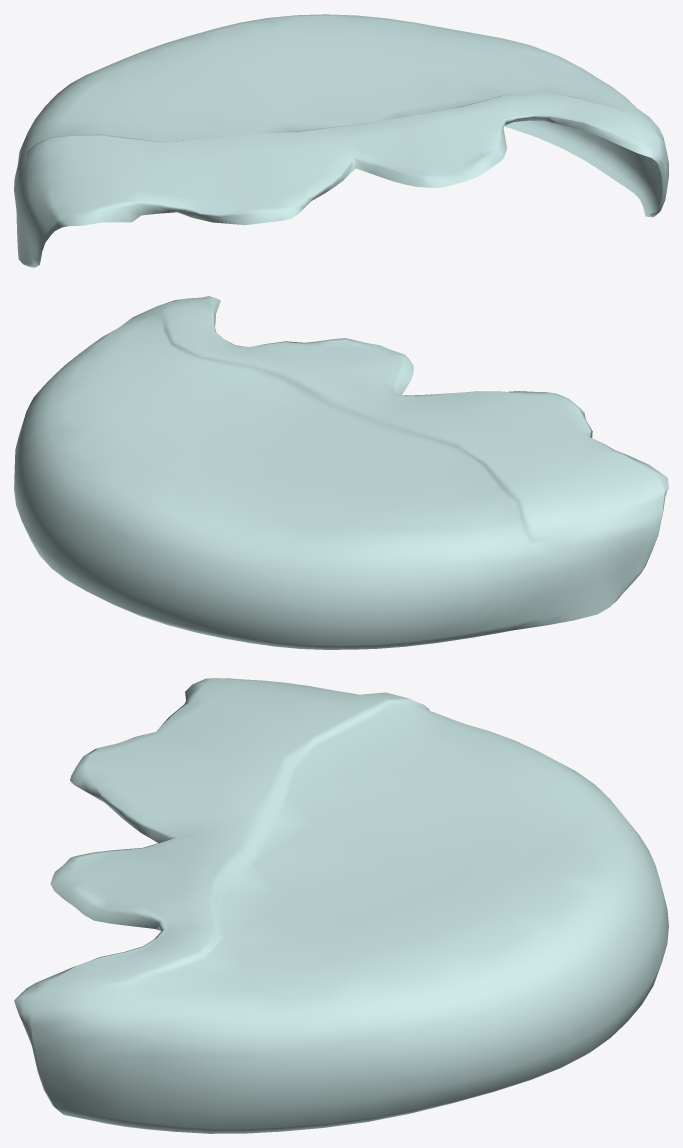
Rendered from SM_Bed_02d.fbx.
3 renders of one model, top to bottom at view 1: azimuth 30°, elevation 25°; view 2: azimuth 150°, elevation 25°; view 3: azimuth 270°, elevation 25°, orthographic. The views are drawn at different scales.
Parts seen in each view (by area): view 1: SM_Bed_02d; view 2: SM_Bed_02d; view 3: SM_Bed_02d.
Boxes of the visible parts, x1,y1,x2,y2 form: SM_Bed_02d: (14, 14, 668, 267); SM_Bed_02d: (14, 296, 668, 649); SM_Bed_02d: (14, 678, 668, 1133).
Size of the model in its own units: 347 by 62.59 by 267.
